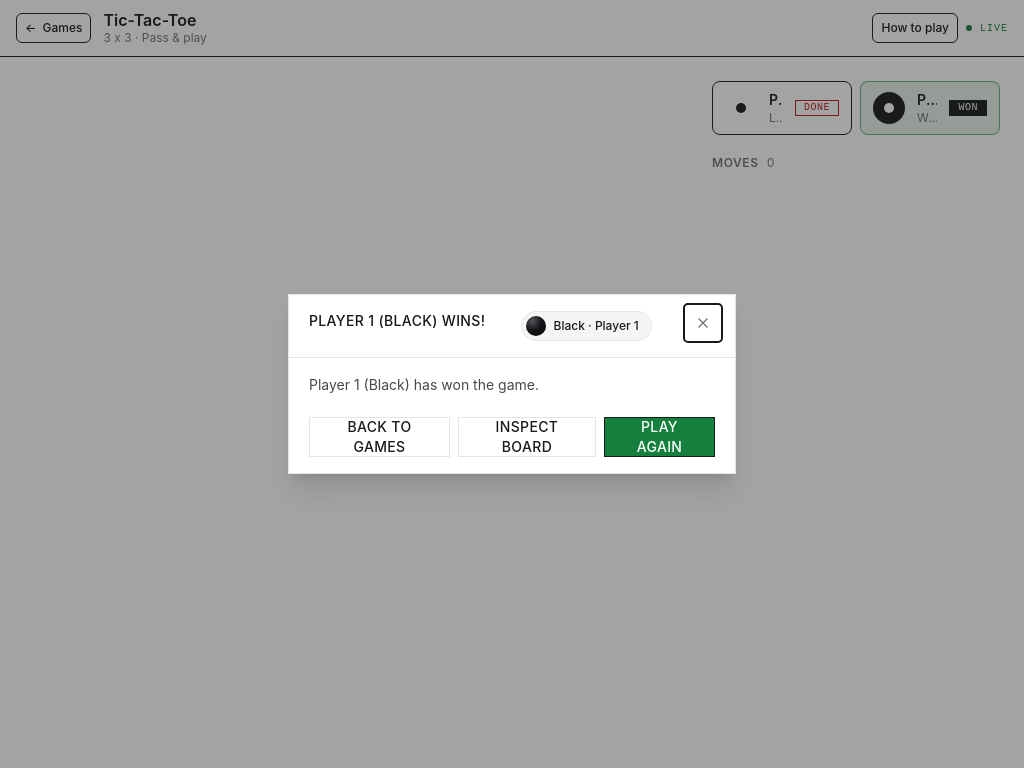
Test: GameShell board review › draws the arrow rather than typing it
Click the button "Inspect board" at (527, 437), box [458, 417, 596, 457]
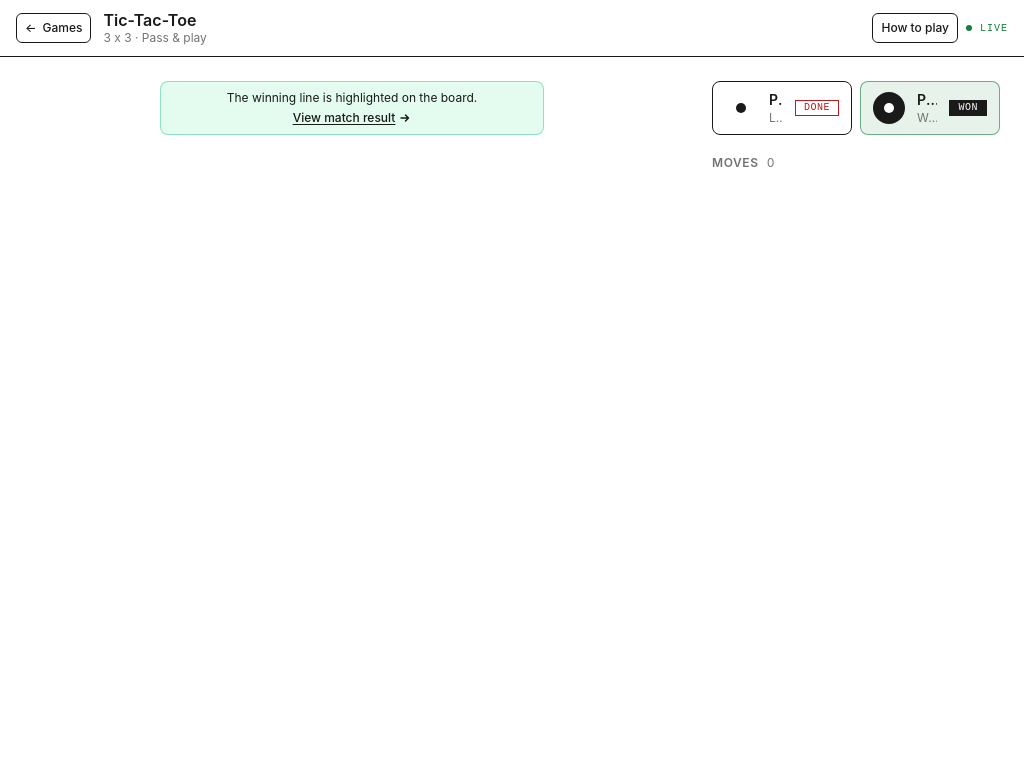
Expected: the icon is shown, [399, 112, 411, 124]
